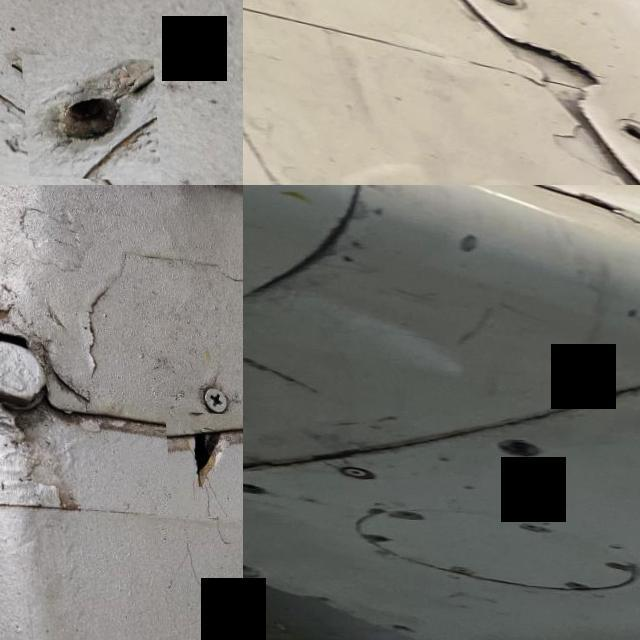Crack: (484, 30, 618, 106), (161, 408, 243, 514), (546, 185, 640, 212)
Missing_Fastener: (15, 52, 154, 178), (490, 432, 543, 459), (610, 112, 640, 139), (243, 476, 268, 500), (561, 631, 603, 640), (456, 633, 502, 640)
